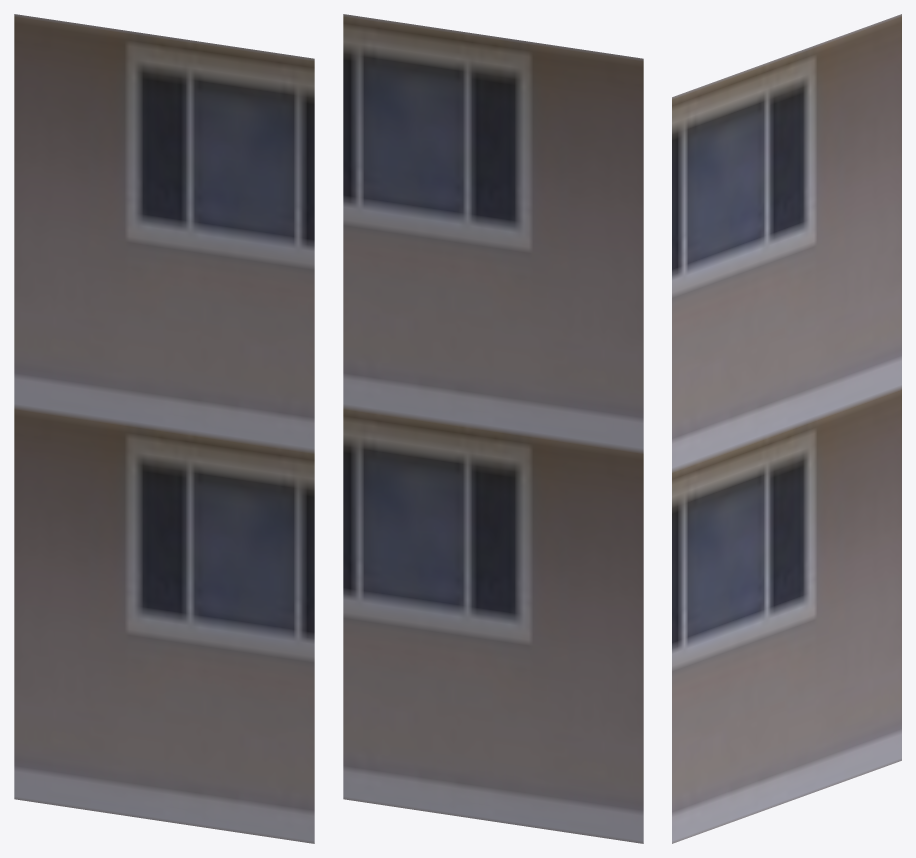
File: ResTex__3906.fbx
3 views of the same model, side by side, from view 1: azimuth 30°, elevation 25°; view 2: azimuth 210°, elevation 25°; view 3: azimuth 270°, elevation 25° (orthographic). The views are drawn at different scales.
Visible parts, largest first — view 1: CityEngineMaterial_21_m; view 2: CityEngineMaterial_21_m; view 3: CityEngineMaterial_21_m.
Boxes of the visible parts, bbox=[...] form: CityEngineMaterial_21_m: bbox=[14, 14, 314, 843]; CityEngineMaterial_21_m: bbox=[343, 14, 643, 843]; CityEngineMaterial_21_m: bbox=[672, 14, 901, 843].
Size of the model in its own units: 1.43 by 6 by 1.67.
1 material, 1 textured.
